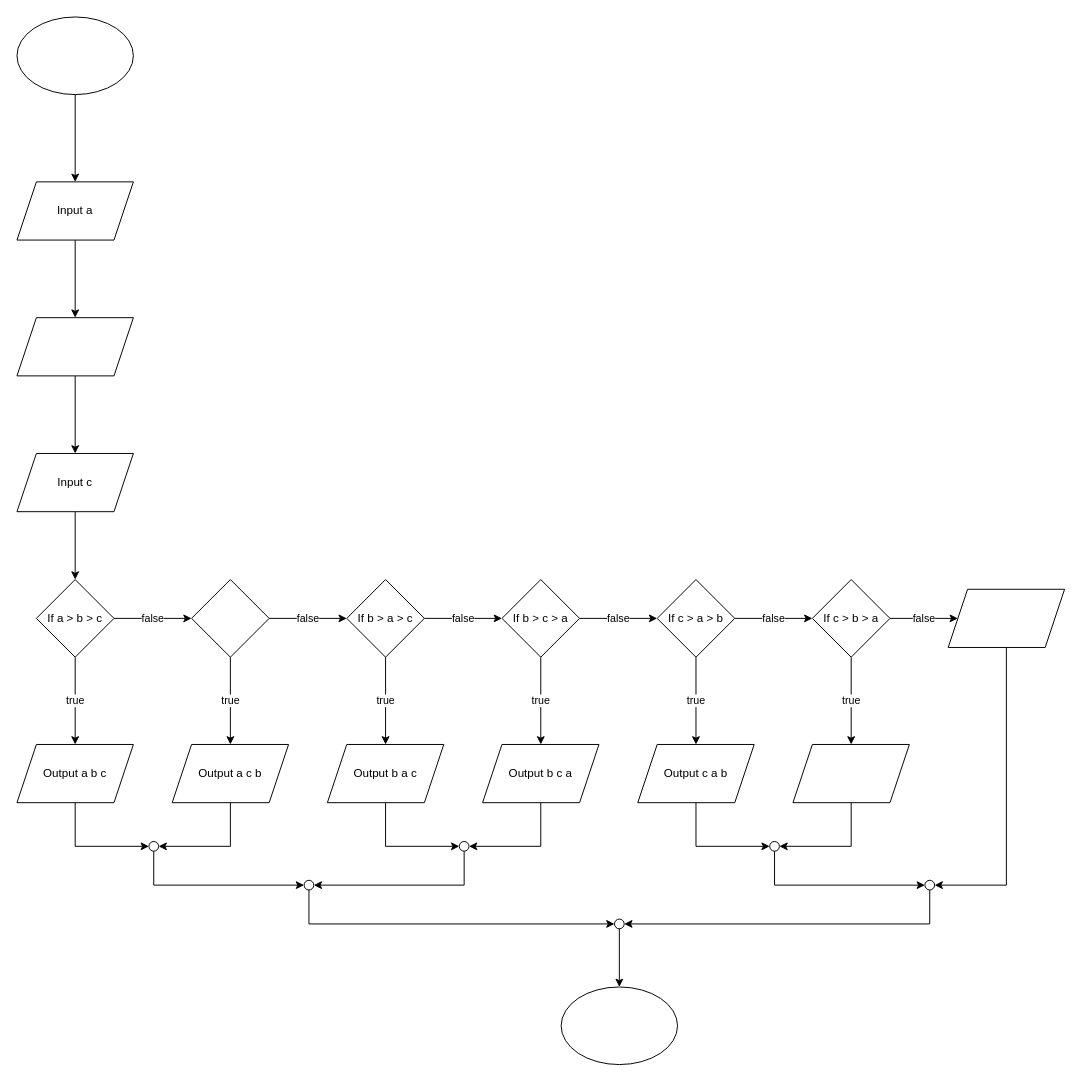
Some shapes in this 1082 by 1082 pixel diagram are drawn without their labels. Each missing label, with the centre of its shape:
End: [619,1025]
If a > c > b: [230,618]
Input b: [74,346]
Output c b a: [850,773]
Output Error: [1006,617]
Start: [74,55]
